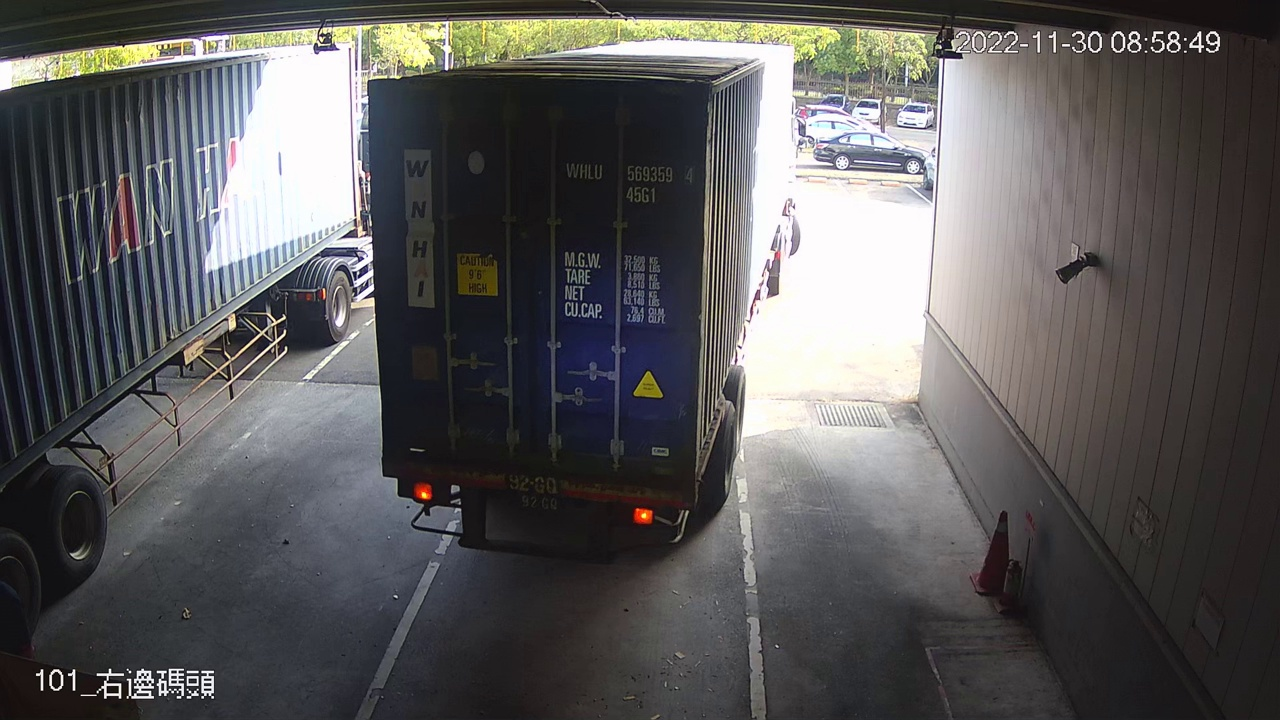container: (557, 155, 697, 212)
